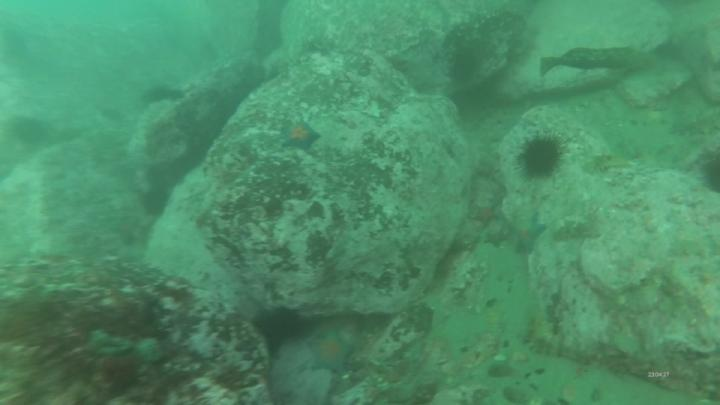echinus: (262, 312, 304, 347), (523, 140, 557, 178)
starfish: (310, 334, 355, 370), (513, 215, 544, 256), (284, 122, 320, 152), (562, 378, 594, 405)
